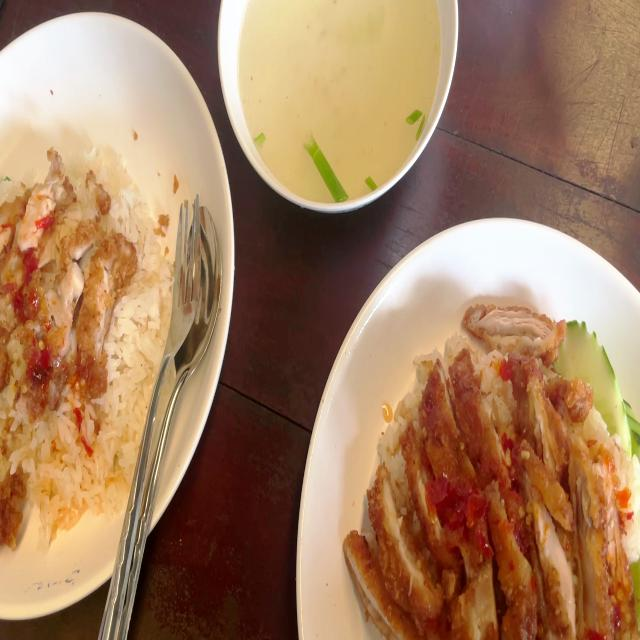chicken_rice: (343, 299, 640, 640), (0, 145, 177, 547)
cucumber: (553, 309, 633, 465), (618, 379, 640, 602), (0, 163, 16, 187)
fried_chicken: (342, 301, 621, 640), (0, 154, 128, 540)
